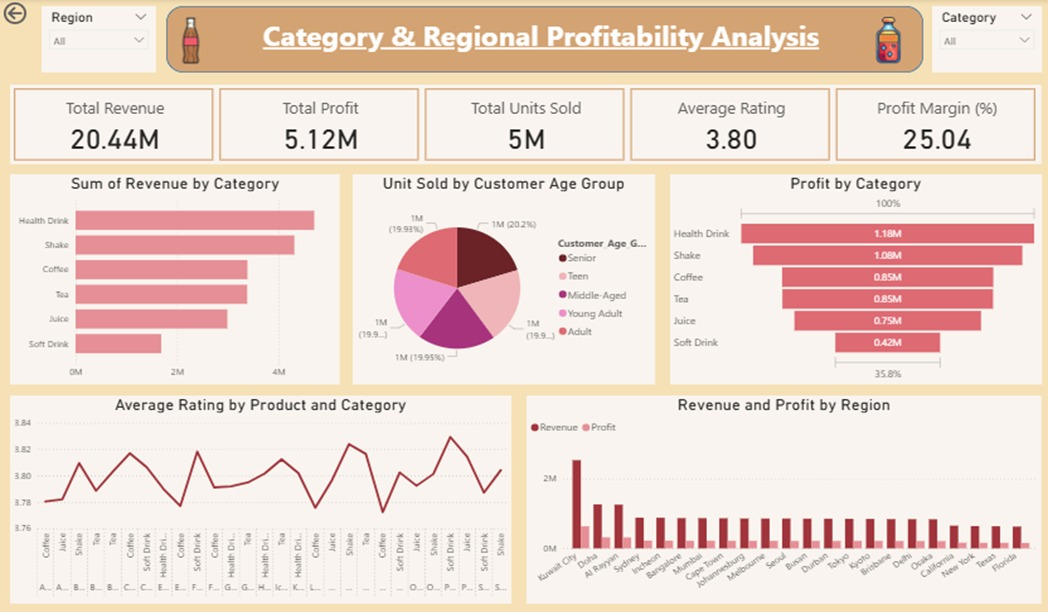

What the dashboard file says about the page in this screenshot:
{"tool":"powerbi","page":{"name":"Page 3","canvas":[1400,850],"ordinal":2},"visuals":[{"type":"shape","box":[220.9,10,1005.6,92],"z":0},{"type":"textbox","box":[299.5,20.1,838.3,66.9],"z":1000},{"type":"image","box":[1137.8,20.1,85.3,73.6],"z":2000},{"type":"image","box":[207.5,3.3,92,107.1],"z":3000},{"type":"slicer","fields":{"Values":["beverages_data.Region"]},"box":[55.2,10,152.3,92],"z":4000},{"type":"slicer","fields":{"Values":["beverages_data.Category"]},"box":[1238.2,10,145.6,92],"z":5000},{"type":"cardVisual","fields":{"Data":["Sum(beverages_data.Revenue_USD)","Sum(beverages_data.Profit_USD)","Sum(beverages_data.Unit_Sold)","Avg(beverages_data.Rating)","beverages_data.Profit Margin (%)"]},"box":[13.4,118.8,1370.4,110.4],"z":6000},{"type":"clusteredColumnChart","title":"Revenue and Profit by Region","fields":{"Category":["beverages_data.Region"],"Y":["Sum(beverages_data.Revenue_USD)","Sum(beverages_data.Profit_USD)"]},"box":[699.4,548.8,684.4,287.8],"z":7000},{"type":"clusteredBarChart","title":"Sum of Revenue by Category","fields":{"Category":["beverages_data.Category"],"Y":["Sum(beverages_data.Revenue_USD)"]},"box":[13.4,242.6,438.4,291.1],"z":8000},{"type":"pieChart","title":"Unit Sold by Customer Age Group","fields":{"Category":["beverages_data.Customer_Age_Group"],"Y":["Sum(beverages_data.Unit_Sold)"]},"box":[468.5,242.6,401.6,291.1],"z":9000},{"type":"lineChart","title":"Average Rating by Product and Category","fields":{"Category":["beverages_data.Product","beverages_data.Category"],"Y":["Avg(beverages_data.Rating)"]},"box":[13.4,548.8,665.9,287.8],"z":10000},{"type":"funnel","title":"Profit by Category","fields":{"Category":["beverages_data.Category"],"Y":["Sum(beverages_data.Profit_USD)"]},"box":[890.2,242.6,493.6,291.1],"z":11000},{"type":"actionButton","box":[0,0,100,40],"z":12000}]}

Visuals, with their boxes on the page's 1400x850 design canvas (x1, y1, x2, y2). These are canvas units, not pixel positions in the 1048x612 screenshot, which may show the page scaled, cropped or inside an application window:
shape: (x1=221, y1=10, x2=1226, y2=102)
textbox: (x1=300, y1=20, x2=1138, y2=87)
image: (x1=1138, y1=20, x2=1223, y2=94)
image: (x1=208, y1=3, x2=300, y2=110)
slicer - beverages_data.Region: (x1=55, y1=10, x2=208, y2=102)
slicer - beverages_data.Category: (x1=1238, y1=10, x2=1384, y2=102)
cardVisual - Sum(beverages_data.Revenue_USD) x Sum(beverages_data.Profit_USD): (x1=13, y1=119, x2=1384, y2=229)
"Revenue and Profit by Region" clusteredColumnChart: (x1=699, y1=549, x2=1384, y2=837)
"Sum of Revenue by Category" clusteredBarChart: (x1=13, y1=243, x2=452, y2=534)
"Unit Sold by Customer Age Group" pieChart: (x1=468, y1=243, x2=870, y2=534)
"Average Rating by Product and Category" lineChart: (x1=13, y1=549, x2=679, y2=837)
"Profit by Category" funnel: (x1=890, y1=243, x2=1384, y2=534)
actionButton: (x1=0, y1=0, x2=100, y2=40)
